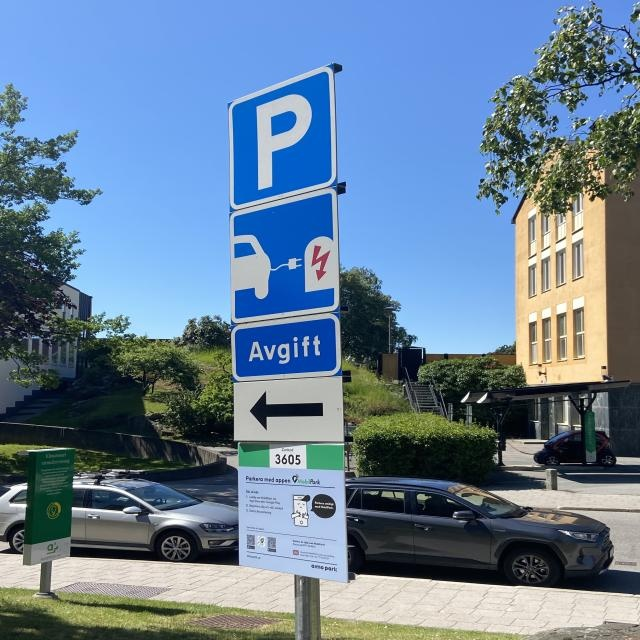P-skylt: (218, 58, 344, 213)
